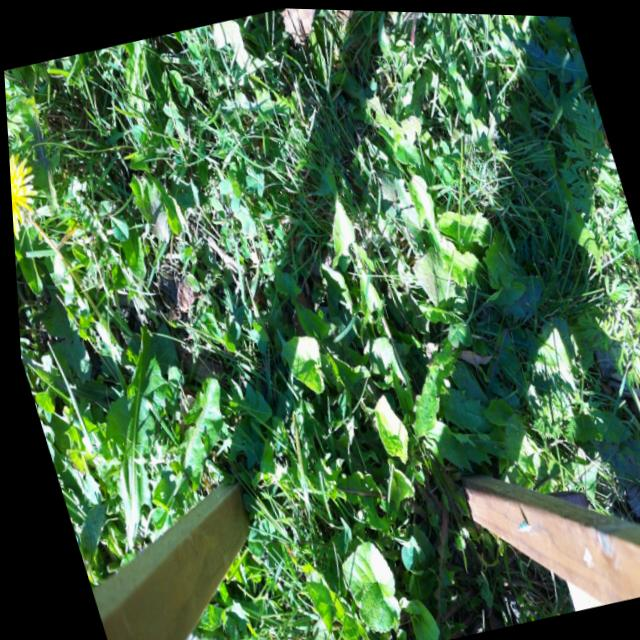base: (89, 313, 128, 365)
flower: (7, 143, 48, 242)
